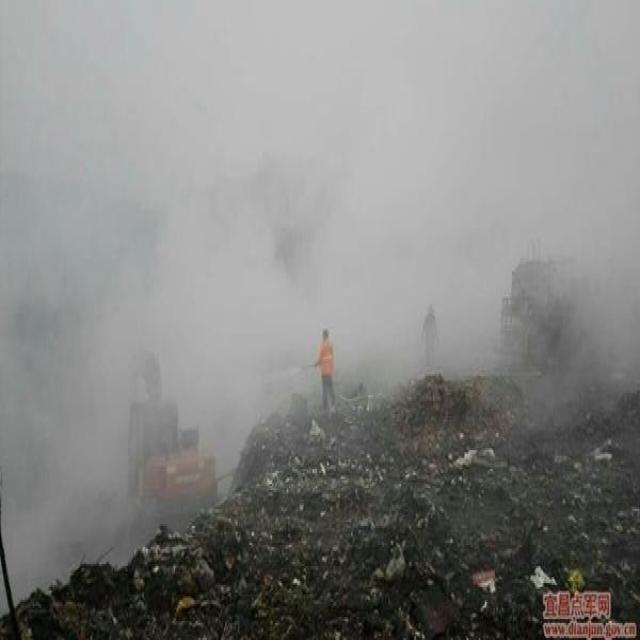Smoke: (1, 1, 639, 618)
